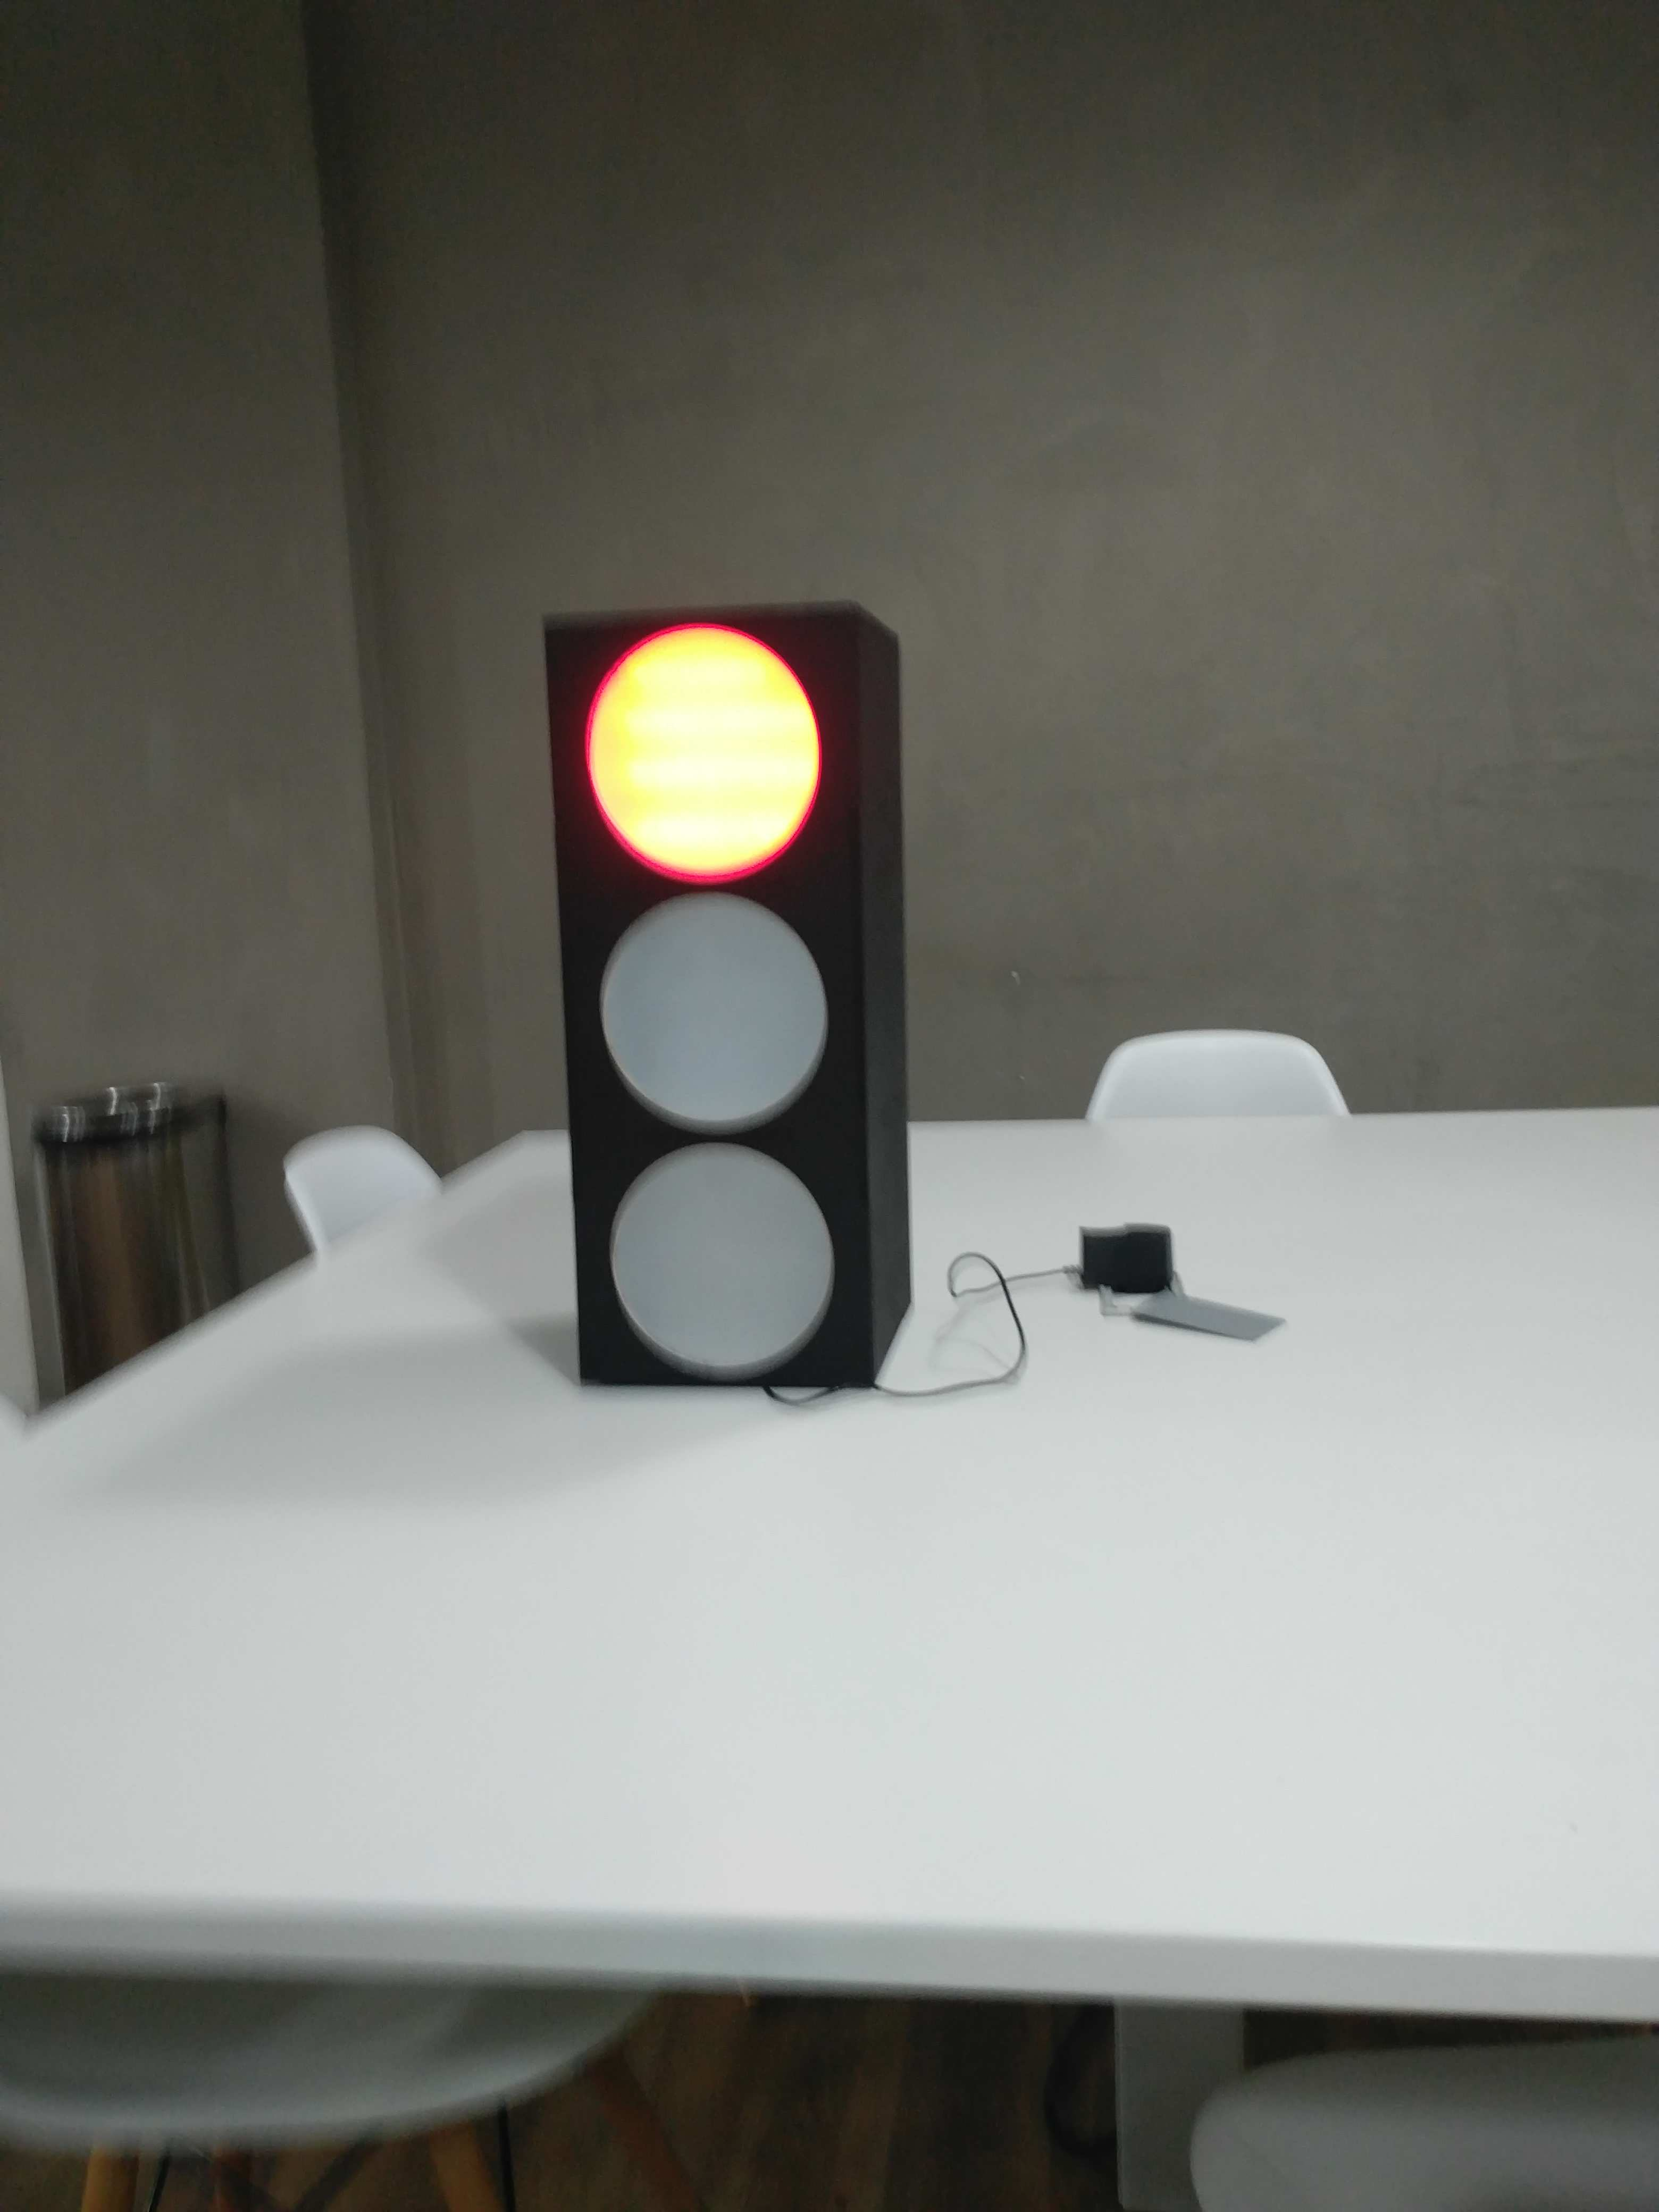stop: (530, 597, 918, 1393)
